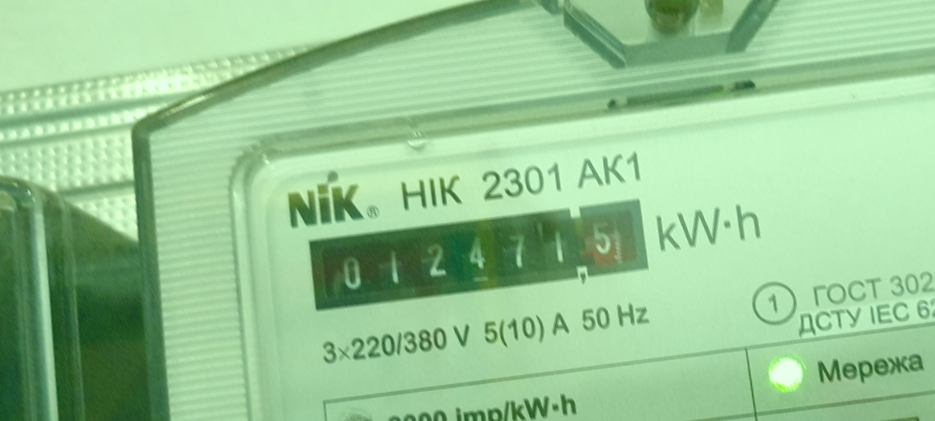0: (339, 252, 366, 291)
1: (387, 248, 403, 284), (552, 227, 566, 264)
2: (426, 240, 450, 278)
4: (466, 233, 489, 271)
5: (591, 216, 616, 256)
7: (506, 230, 530, 270)
screen: (297, 188, 663, 320)
